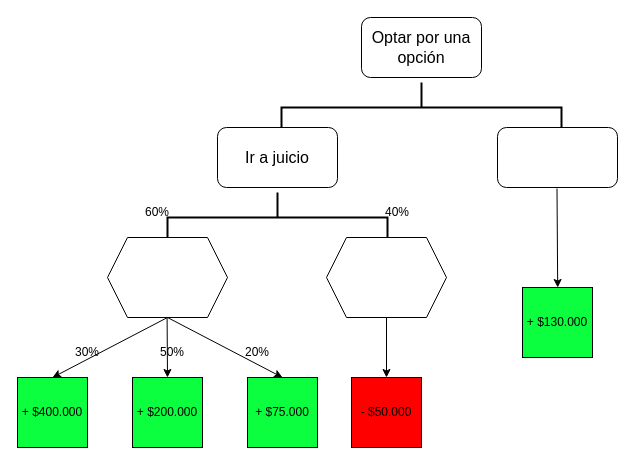
Image size: 635x465. Some labels were removed from this diagram. Here are the shapes that lost their labels. From the top down, the centre of each, then its label:
the point at 557,157: No ir a juicio
the point at 167,277: Ganar
the point at 386,277: Perder
